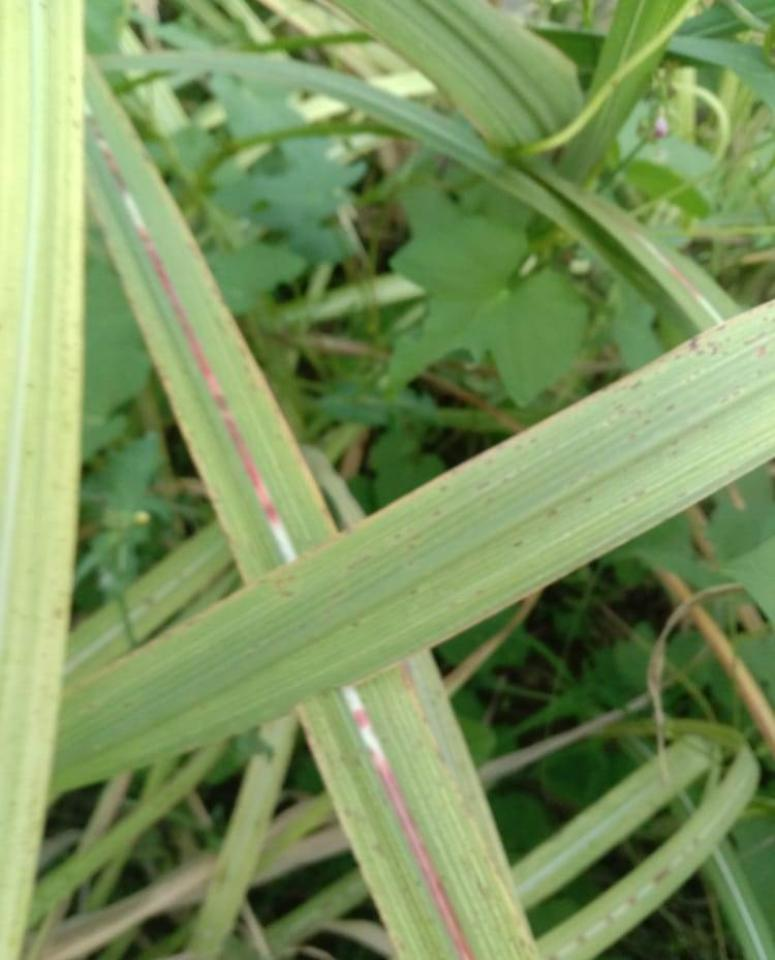RedRot: (134, 225, 281, 526), (350, 709, 478, 959), (99, 146, 130, 195)
